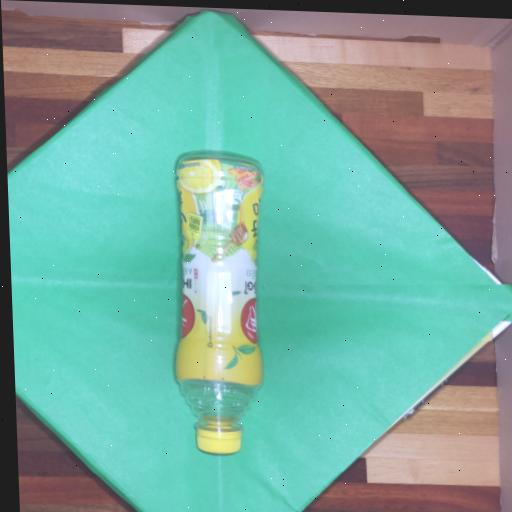bottle: (175, 155, 262, 453)
